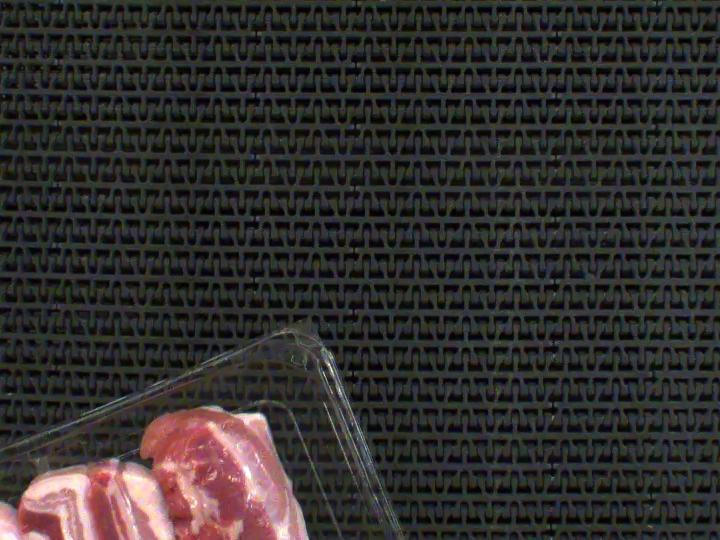packaging-error: (29, 453, 56, 477)
